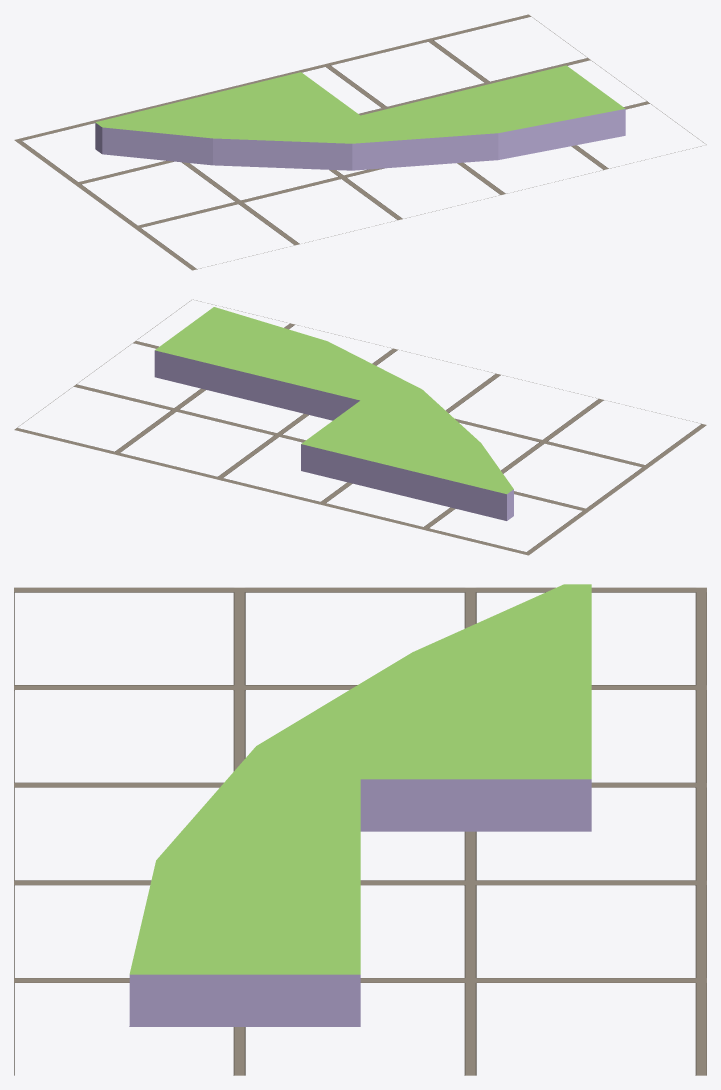
File: Tiered_Grass_45_Degrees_Curve_Outer_Inside_2x4.glb
3 views of the same model, one above another, from view 1: azimuth 30°, elevation 25°; view 2: azimuth 150°, elevation 25°; view 3: azimuth 270°, elevation 25° (orthographic). The views are drawn at different scales.
Visible parts, largest first — view 1: Tiered_Grass_45_Degrees_Curve_Outer_Inside_2x4, Floor; view 2: Tiered_Grass_45_Degrees_Curve_Outer_Inside_2x4, Floor; view 3: Tiered_Grass_45_Degrees_Curve_Outer_Inside_2x4, Floor.
Part boxes in pixels (x1,y1,x2,y2): Tiered_Grass_45_Degrees_Curve_Outer_Inside_2x4: (95,65,625,170); Floor: (14,14,706,270); Tiered_Grass_45_Degrees_Curve_Outer_Inside_2x4: (154,307,513,520); Floor: (14,299,706,555); Tiered_Grass_45_Degrees_Curve_Outer_Inside_2x4: (129,584,591,1026); Floor: (14,587,706,1075).
Size of the model in its own units: 500 by 25 by 300.
Materials: 4 (1 with a texture image).
